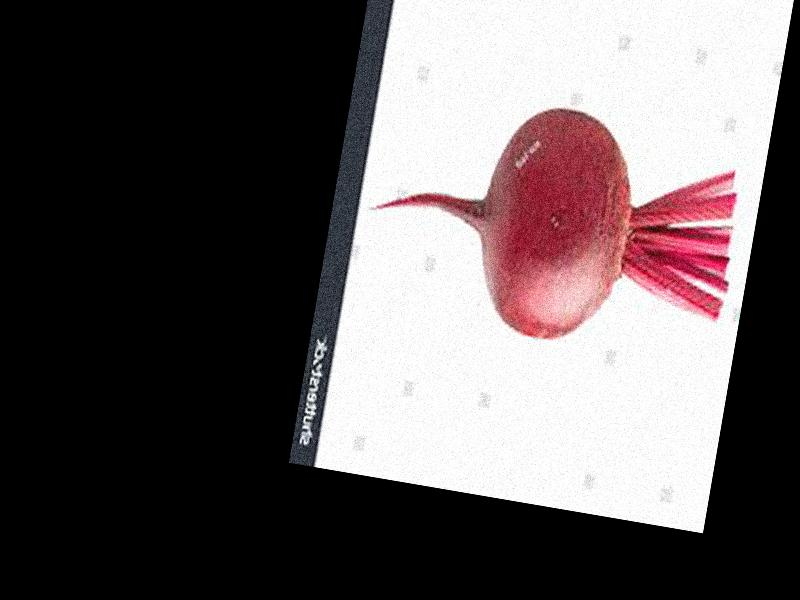Beet: (352, 79, 751, 367)
